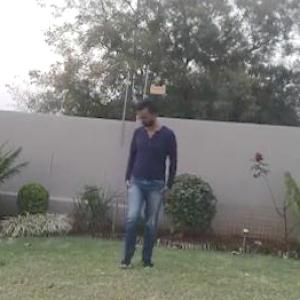follow: (119, 92, 176, 274)
